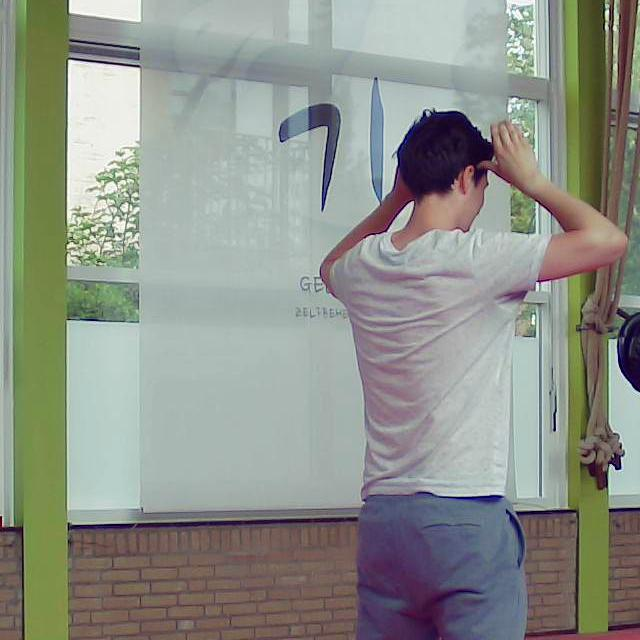paddle: (618, 309, 640, 409)
